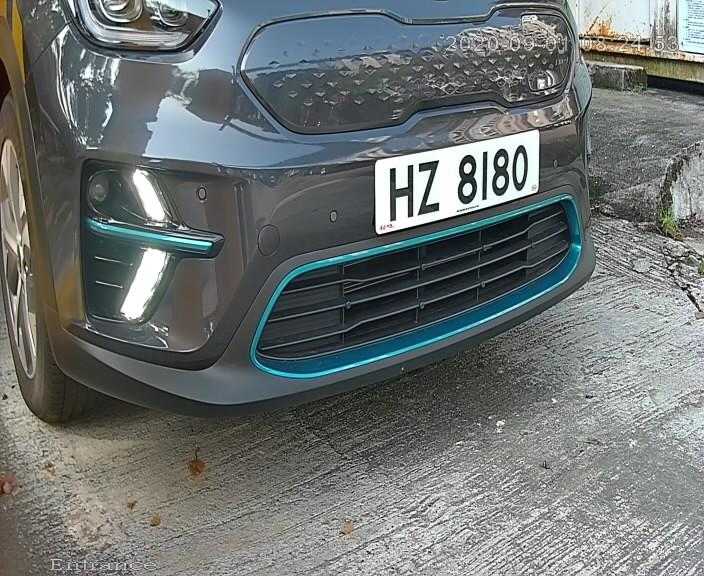Car: (16, 1, 635, 451)
License Plate: (371, 124, 547, 245)
